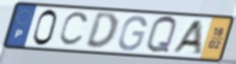0: (31, 9, 59, 47)
A: (169, 19, 204, 55)
C: (57, 11, 91, 48)
D: (83, 12, 119, 52)
G: (117, 14, 148, 53)
Q: (144, 15, 178, 56)
